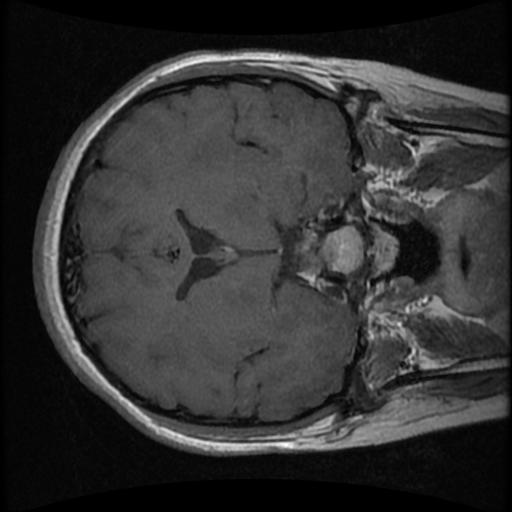pituitary tumour: (293, 230, 323, 284)
